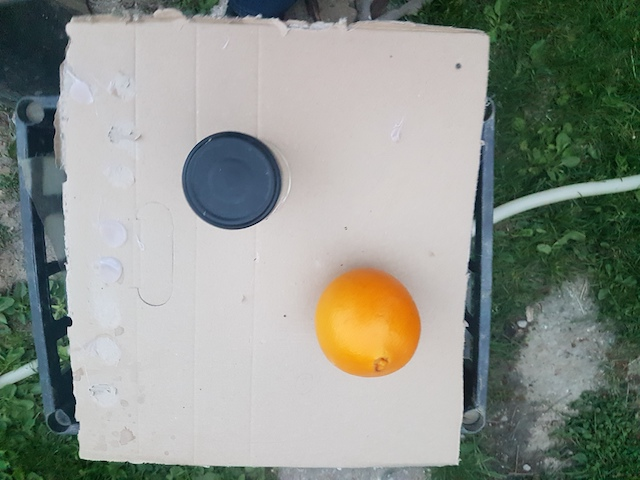orange: (317, 271, 422, 378)
recipient: (183, 131, 279, 231)
